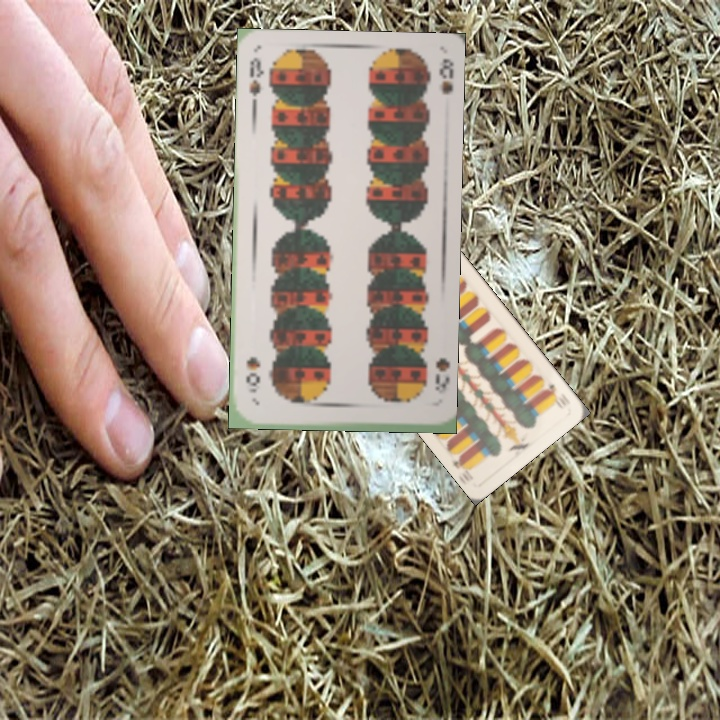E10: (542, 380, 569, 408)
S8: (245, 53, 267, 112), (431, 354, 450, 397)
